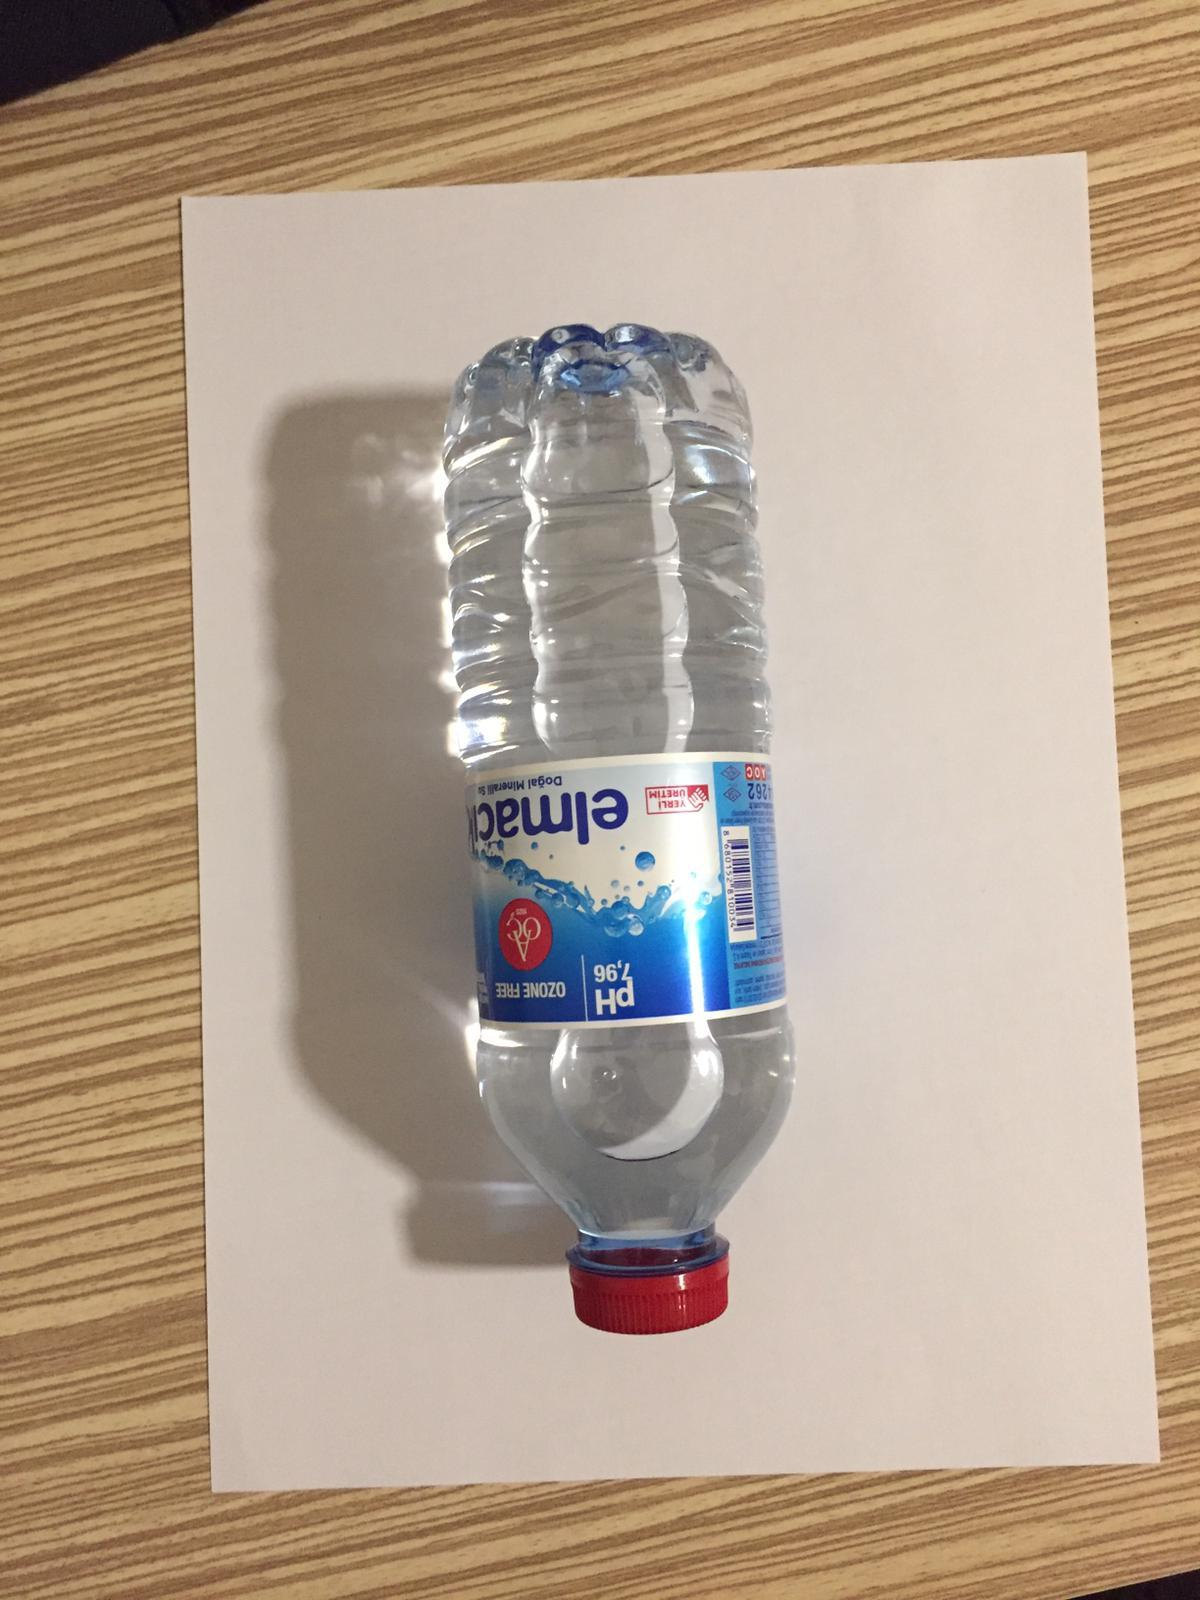bottle: (435, 317, 802, 1342)
